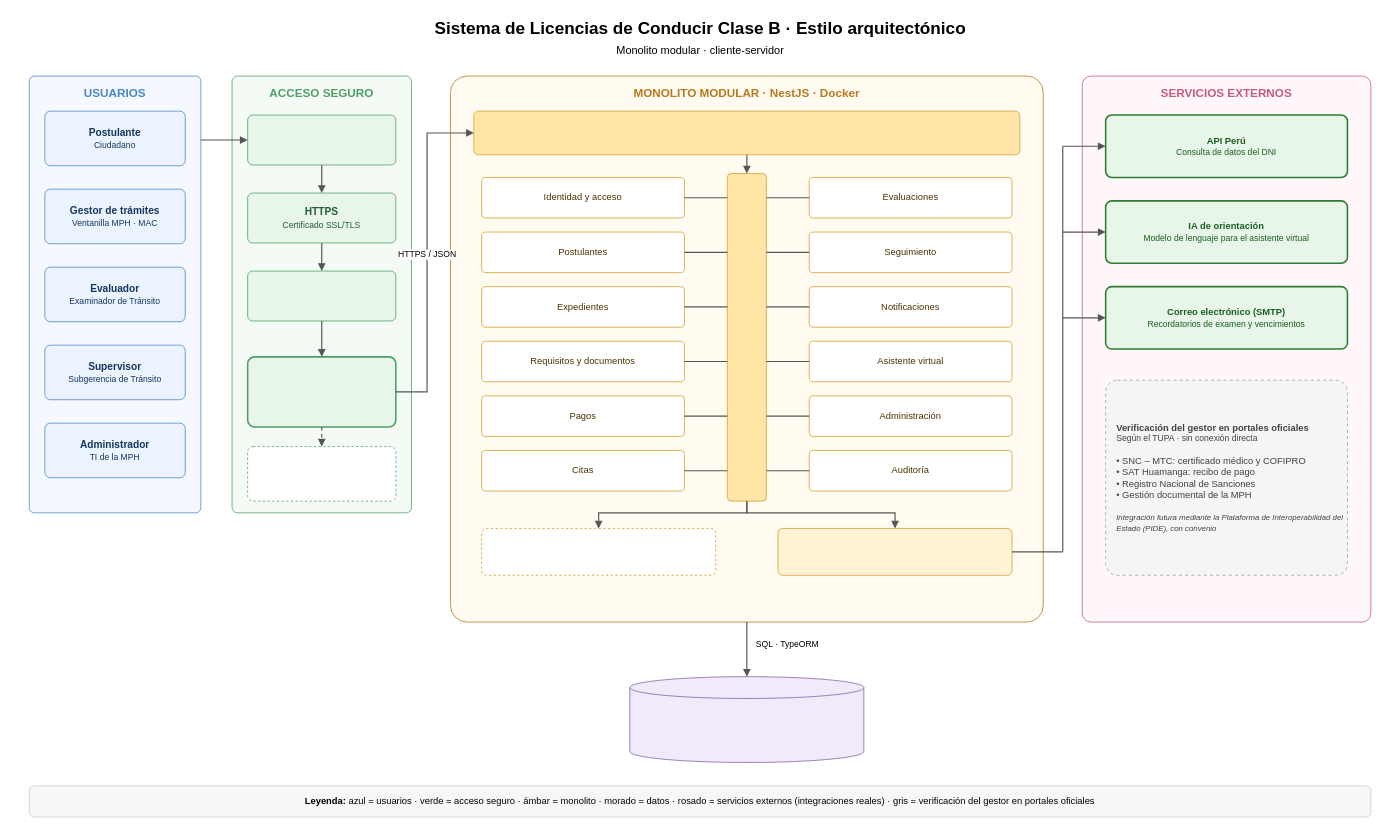
The diagram is 1399 pixels wide and 831 high, and some of its shapes have lost their labels. Each missing label, with the centre of its shape:
"Adaptadores Conexión con servicios externos" belongs at pixel 894 551.
"API REST · Seguridad JWT por roles" belongs at pixel 746 132.
"Caché en memoria Requisitos y categorías públicas" belongs at pixel 598 551.
"Casos de uso y fachadas" belongs at pixel 746 337.
"CDN Archivos estáticos" belongs at pixel 321 295.
"Dominio y DNS licencias.munihuamanga" belongs at pixel 321 139.
"Enlace oficial Consulta de licencias MTC" belongs at pixel 321 473.
"Portal web React + TypeScript" belongs at pixel 321 391.
"PostgreSQL Base de datos única datos y documentos" belongs at pixel 746 719.
